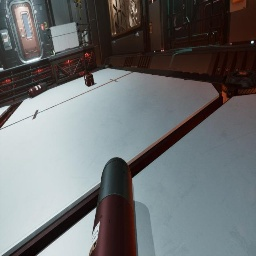0: (50, 51, 55, 55), (0, 68, 4, 71)
EmergencyPhone ,: (43, 20, 48, 30), (149, 21, 153, 33)
FireAlarm ,: (41, 24, 44, 30)
FireExtinguisher ]: (78, 71, 87, 78)
FirstAidBox ,: (84, 71, 94, 86)
NitrogenTank ,: (89, 157, 136, 256), (27, 82, 48, 98)
SafetySwitchPanel ,: (0, 29, 12, 50), (229, 0, 249, 12)
